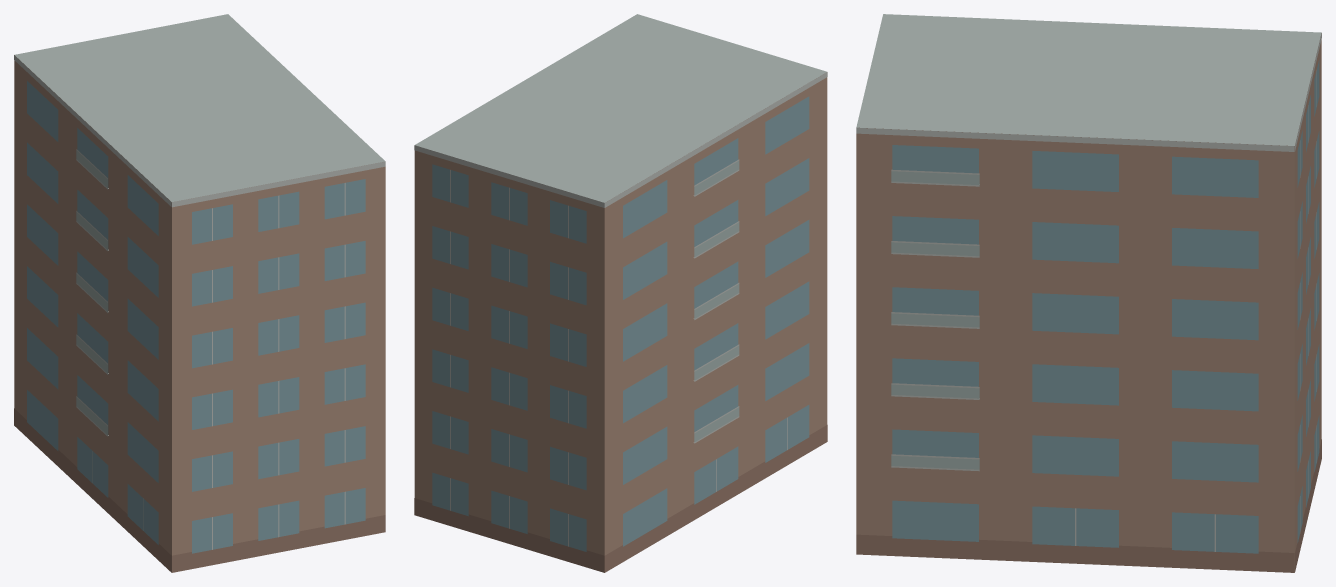
Rendered from survey-upis-32638344.glb.
The picture shows the model from 3 angles, left to right: view 1: azimuth 30°, elevation 25°; view 2: azimuth 150°, elevation 25°; view 3: azimuth 270°, elevation 25°; orthographic projection. The views are drawn at different scales.
Parts seen in each view (by area): view 1: survey-upis-32638344.tmp; view 2: survey-upis-32638344.tmp; view 3: survey-upis-32638344.tmp.
Part boxes in pixels (x1,y1,x2,y2): survey-upis-32638344.tmp: (14, 14, 385, 572); survey-upis-32638344.tmp: (414, 14, 827, 572); survey-upis-32638344.tmp: (856, 14, 1321, 572).
Bounding box in the file's own units: 11.56 × 17.4 × 17.21.
